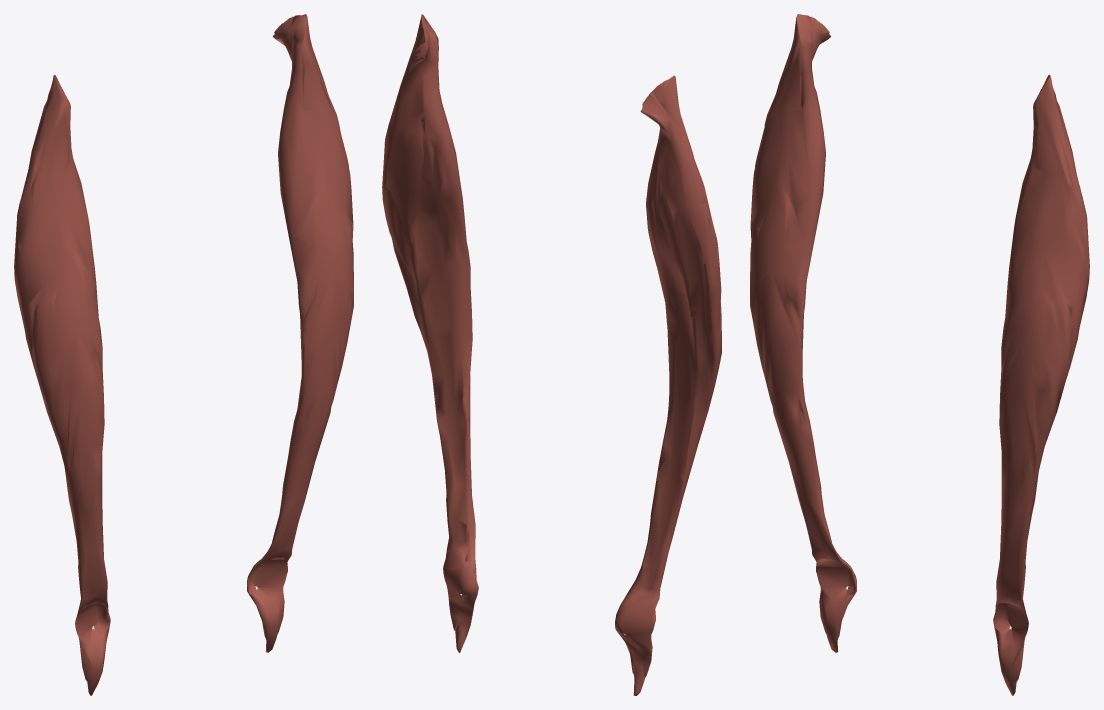
File: rectus_femoris.glb
3 views of the same model, side by side, from view 1: azimuth 30°, elevation 25°; view 2: azimuth 150°, elevation 25°; view 3: azimuth 330°, elevation 25° (orthographic).
Parts seen in each view (by area): view 1: Rectus Femoris; view 2: Rectus Femoris; view 3: Rectus Femoris.
Part boxes in pixels (x1,y1,x2,y2): Rectus Femoris: (14,14,353,695); Rectus Femoris: (382,14,721,695); Rectus Femoris: (750,14,1089,695).
Bounding box in the file's own units: 0.3089 × 0.5564 × 0.0686.
